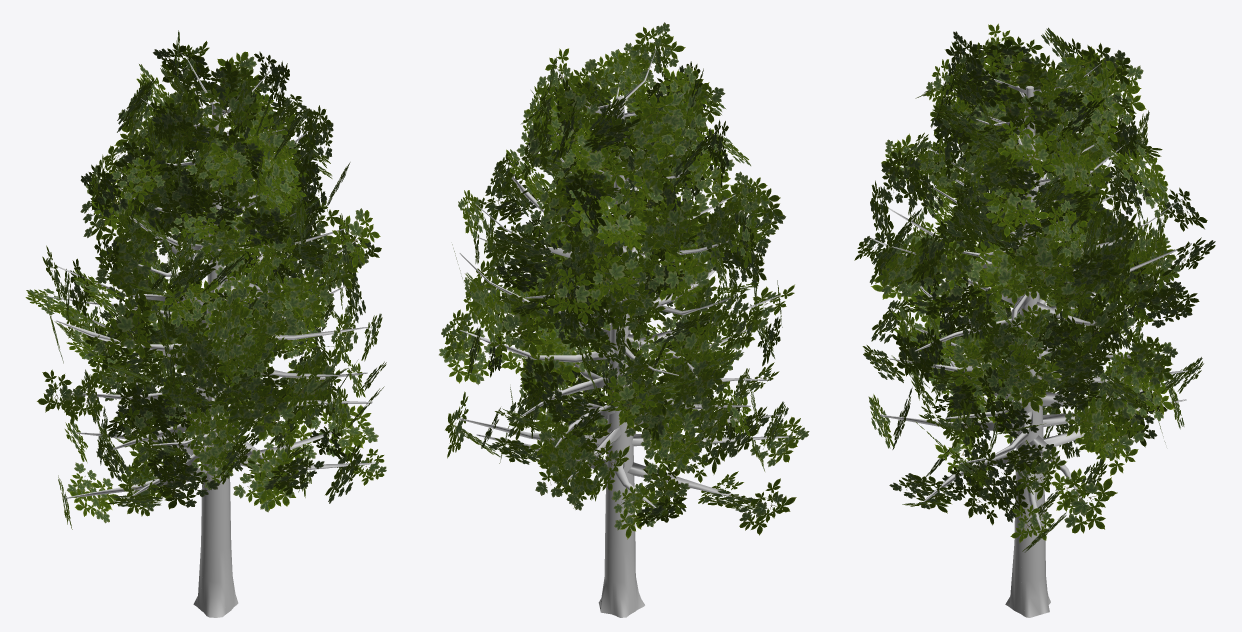
The model's file is Conker_Tree_Model_0.obj.
3 views of the same model, side by side, from view 1: azimuth 30°, elevation 25°; view 2: azimuth 150°, elevation 25°; view 3: azimuth 270°, elevation 25° (orthographic). The views are drawn at different scales.
Visible parts, largest first — view 1: Foliage__leafcard, Bark; view 2: Foliage__leafcard, Bark; view 3: Foliage__leafcard, Bark.
Boxes of the visible parts, x1=… form: Foliage__leafcard: x1=25, y1=30, x2=386, y2=529; Bark: x1=47, y1=54, x2=375, y2=617; Foliage__leafcard: x1=439, y1=22, x2=809, y2=539; Bark: x1=457, y1=48, x2=788, y2=617; Foliage__leafcard: x1=854, y1=23, x2=1215, y2=552; Bark: x1=867, y1=49, x2=1191, y2=617.
Size of the model in its own units: 18.62 by 30 by 17.87.
